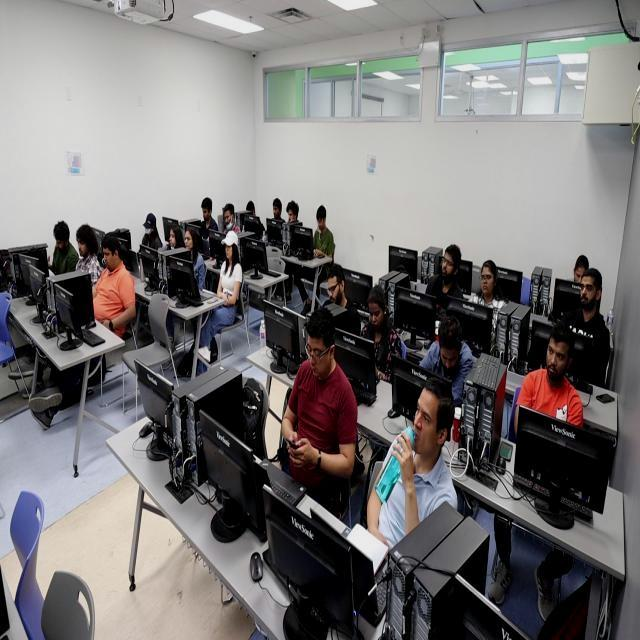Looking away: (306, 326, 336, 378), (440, 330, 462, 378), (326, 267, 344, 302), (368, 293, 386, 328), (102, 242, 118, 274), (77, 232, 89, 258), (54, 233, 68, 253), (168, 225, 178, 248)
Looking forward: (412, 381, 442, 457), (547, 332, 572, 382), (580, 271, 602, 313), (480, 261, 498, 296), (441, 247, 456, 284), (184, 228, 194, 250), (224, 240, 234, 260)
